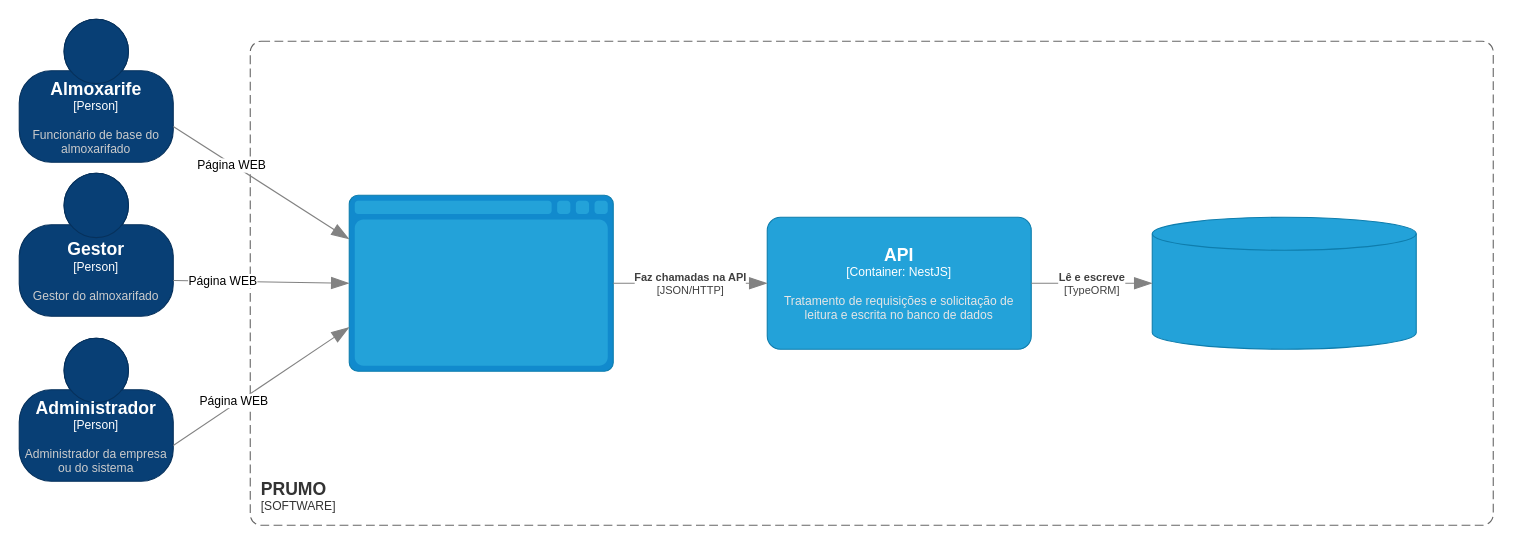
Some shapes in this 1513 by 545 pixel diagram are drawn without their labels. Each missing label, with the box of its shape:
IHM [Container: Angular] Interface Humano-computador: (348, 194, 613, 371)
Prumo DB [Container: Postgres] Armazenamento central de dados: (1151, 216, 1416, 349)
